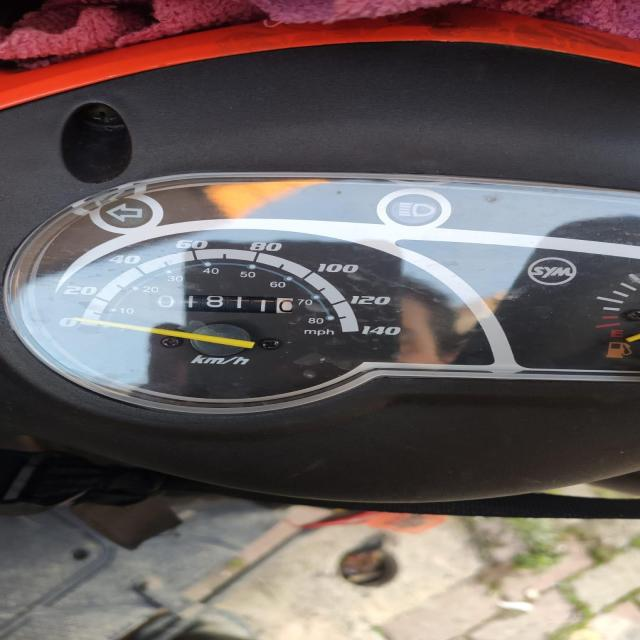odometer: (140, 291, 296, 315)
